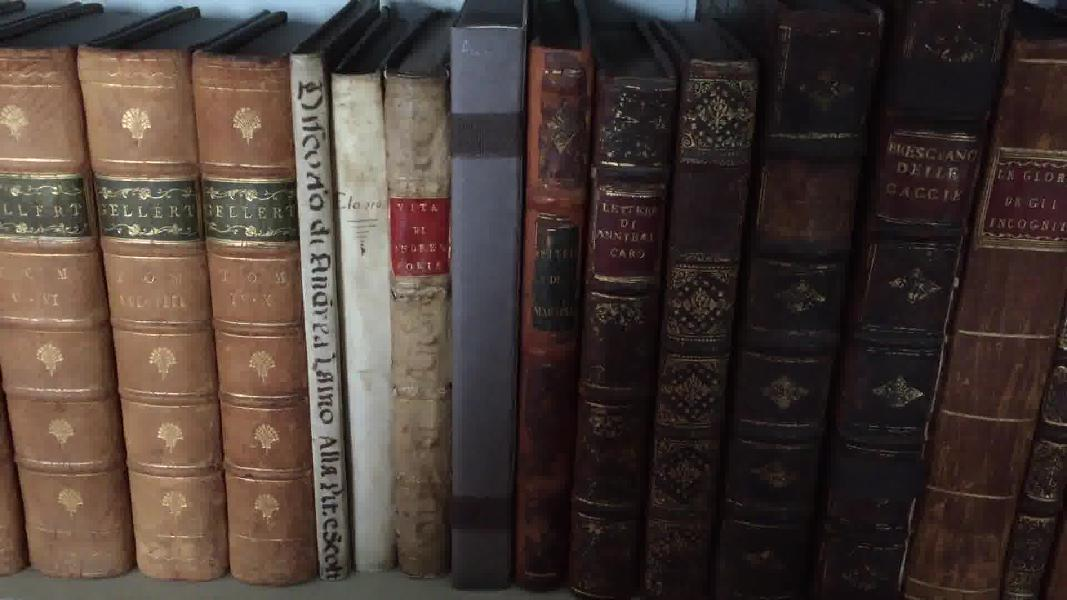Aa6-24: (288, 52, 350, 593)
Aa6-25: (324, 58, 398, 582)
Aa6-26: (381, 67, 454, 593)
Aa6-27: (446, 16, 524, 600)
Aa6-28: (517, 23, 592, 600)
Aa6-29: (565, 19, 675, 600)
Aa6-30: (646, 25, 763, 600)
Aa6-31: (705, 1, 881, 600)
Aa6-32: (821, 4, 995, 600)
Aa6-33: (882, 23, 1067, 599)
